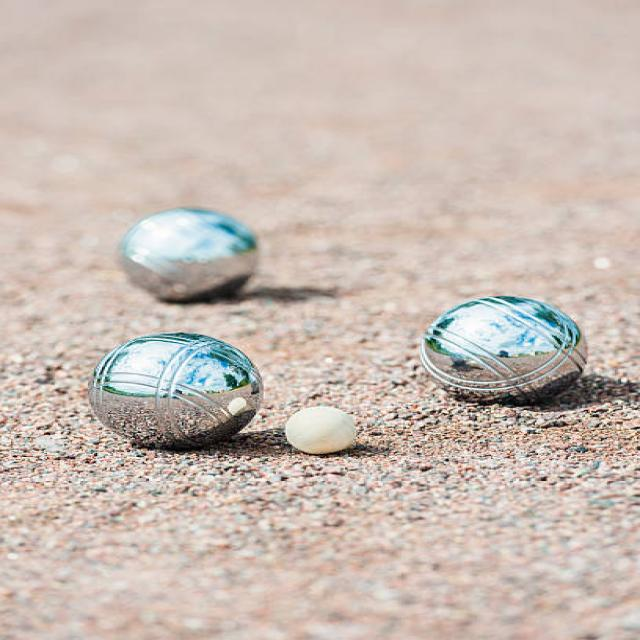hatball: (276, 403, 374, 456)
petanque: (84, 332, 276, 458), (409, 291, 603, 413), (109, 197, 274, 311)
